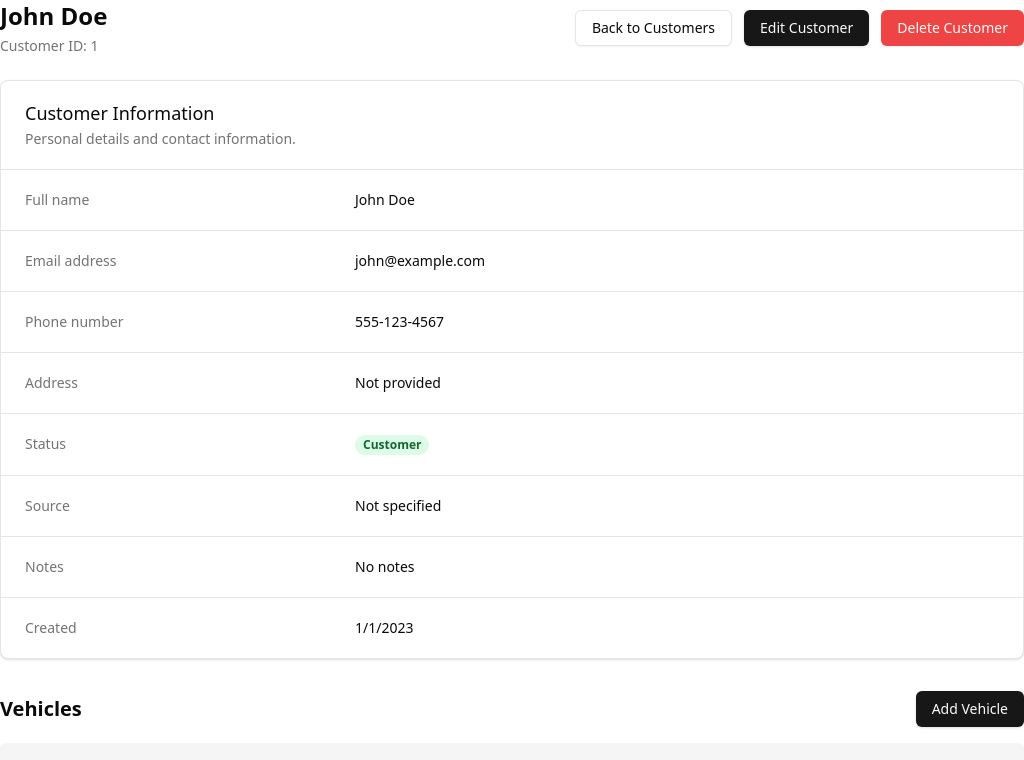
it: CustomerDetails › shows delete confirmation dialog when delete button is clicked
The width and height of the screenshot is (1024, 760).
Expected: the heading "John Doe" is shown, top-left (0, 0), bottom-right (107, 32)
# Click delete button
Click the button "Delete Customer": (953, 28) top-left (881, 10), bottom-right (1023, 46)
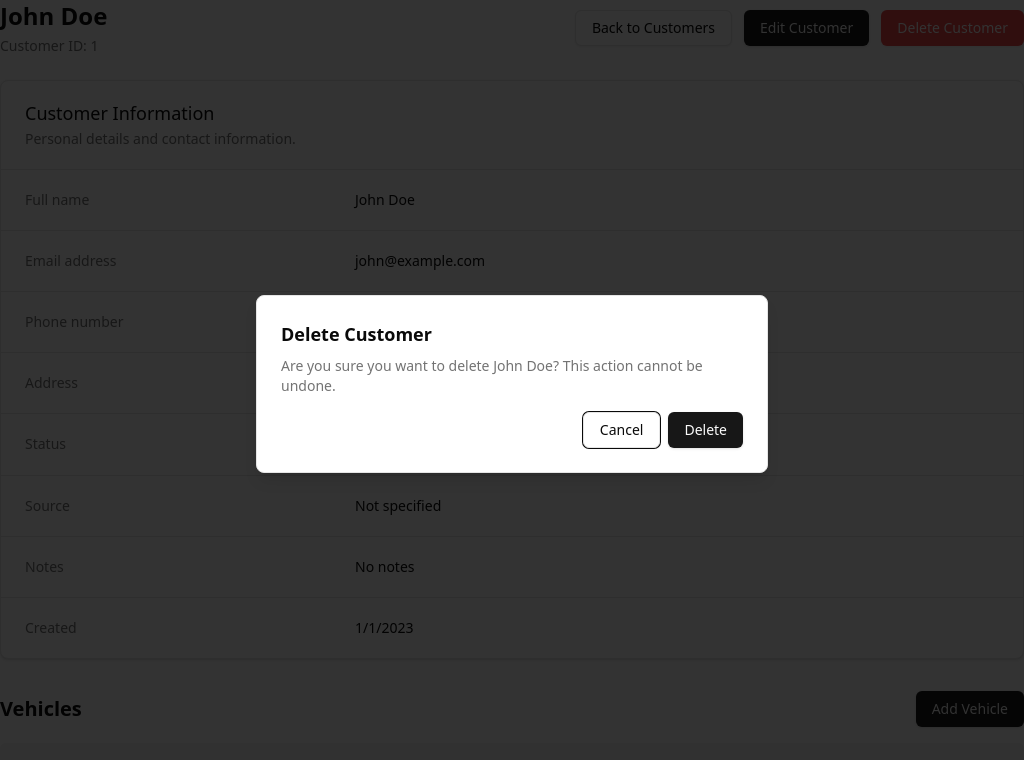
Result: the text "Are you sure you want to delete John Doe" is shown at top-left (281, 356), bottom-right (703, 395)
Result: the button "Delete" is shown at top-left (668, 412), bottom-right (743, 448)
Result: the button "Cancel" is shown at top-left (583, 412), bottom-right (660, 448)
